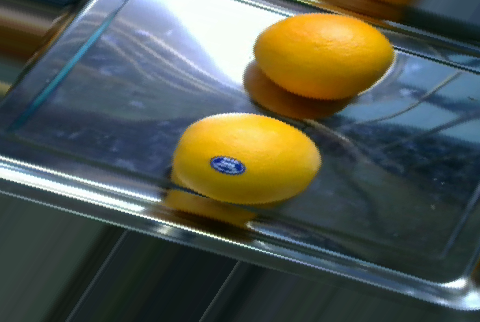Orange: (172, 111, 322, 202), (253, 11, 396, 99)
